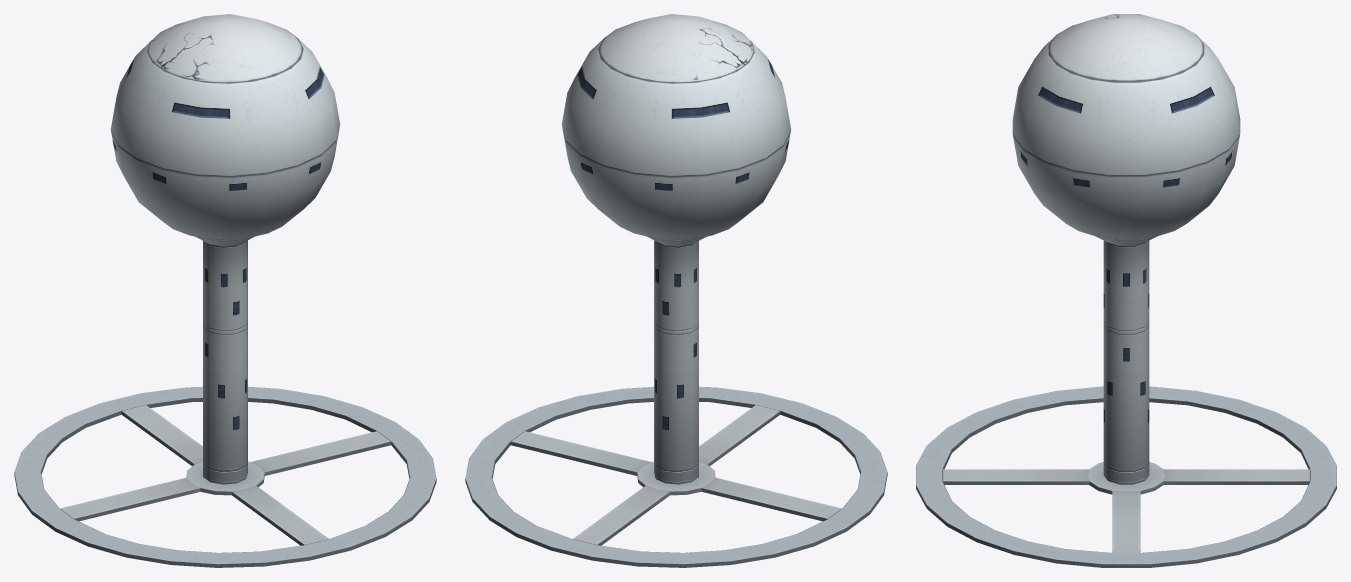
The model's file is wudaohui_jianzhu3_01.FBX.
3 renders of one model, left to right at view 1: azimuth 30°, elevation 25°; view 2: azimuth 150°, elevation 25°; view 3: azimuth 270°, elevation 25°, orthographic.
Visible parts, largest first — view 1: wudaohui_jianzhu3_01; view 2: wudaohui_jianzhu3_01; view 3: wudaohui_jianzhu3_01.
Part boxes in pixels (x1,y1,x2,y2): wudaohui_jianzhu3_01: (14,14,436,567); wudaohui_jianzhu3_01: (465,14,887,567); wudaohui_jianzhu3_01: (916,14,1336,567).
Size of the model in its own units: 1481 by 1775 by 1481.
